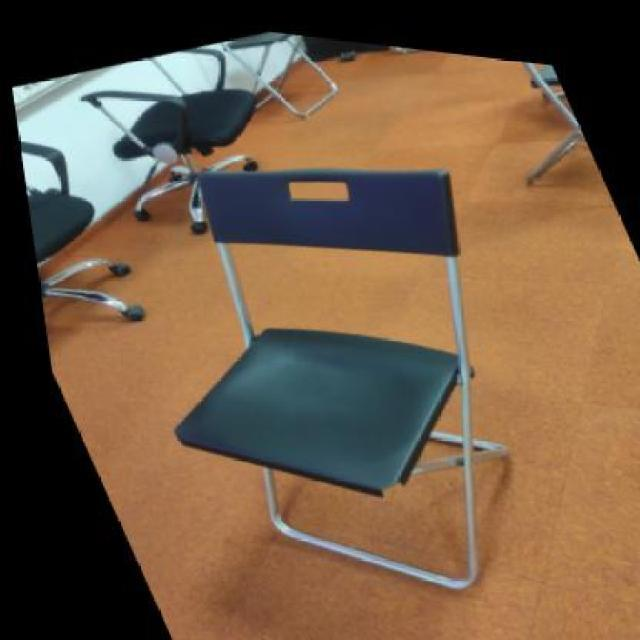chair: (174, 166, 508, 590), (80, 47, 258, 233), (19, 138, 144, 321), (216, 33, 338, 119), (522, 61, 585, 185)
